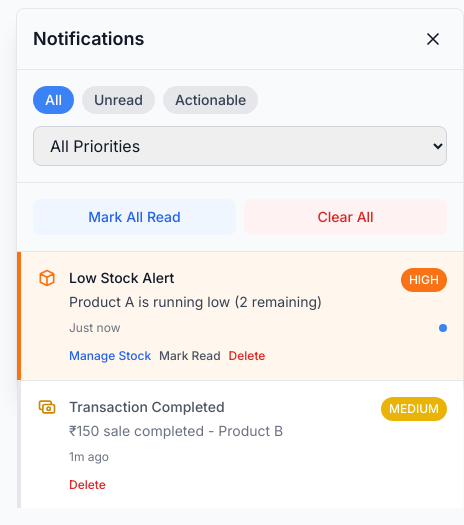
Test: Notification UI Integration › NotificationPanel Integration › should filter by priority
Note: Filter by high priority
Select "High" in the dropdown showing "All Priorities": (240, 146) [33, 126, 447, 166]
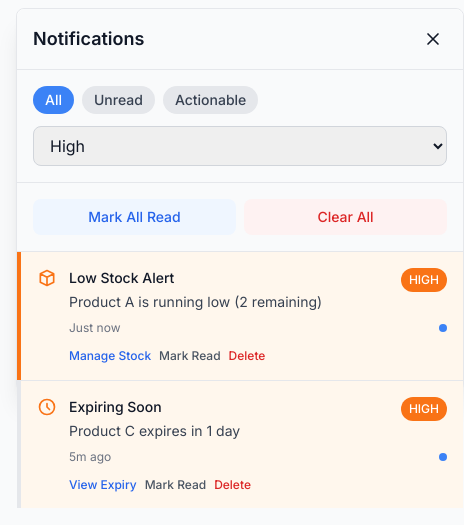
Expected: the text "Low Stock Alert" is shown, [69, 269, 174, 286]
Result: the text "Expiring Soon" is shown at [69, 398, 162, 415]
Result: the text "Transaction Completed" is gone
